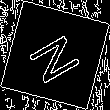N_NE: (23, 25, 87, 85)
